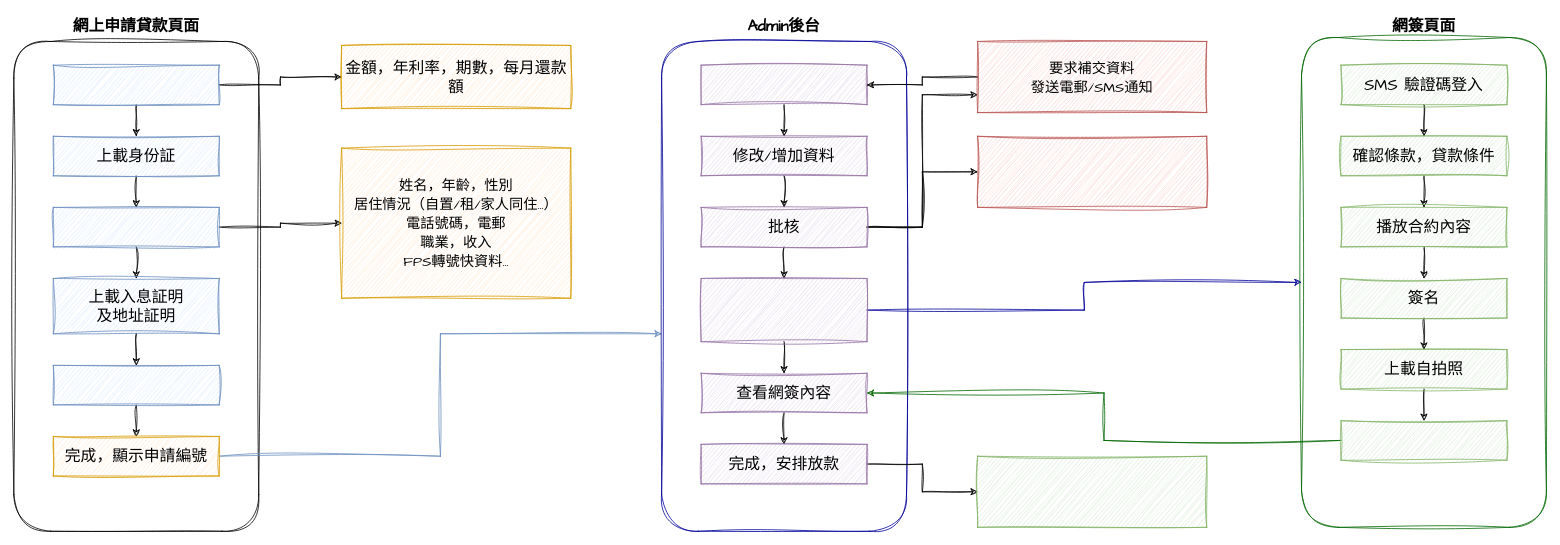
This 1560x545 diagram has some shape labels left out. Here are the shapes that lost their labels. From the top down, the box of each, then its label:
(53, 64, 219, 105): 選擇貸款金額
(700, 64, 867, 105): 查看申請
(977, 135, 1207, 207): 拒絕申請 發送電郵/SMS通知
(53, 207, 219, 247): 輸入個人資料
(700, 278, 867, 342): 發送網簽連接 （電郵/SMS）
(53, 365, 219, 405): 確認條款，提交
(1340, 420, 1507, 460): 完成
(977, 455, 1207, 527): 發送電郵/SMS通知
